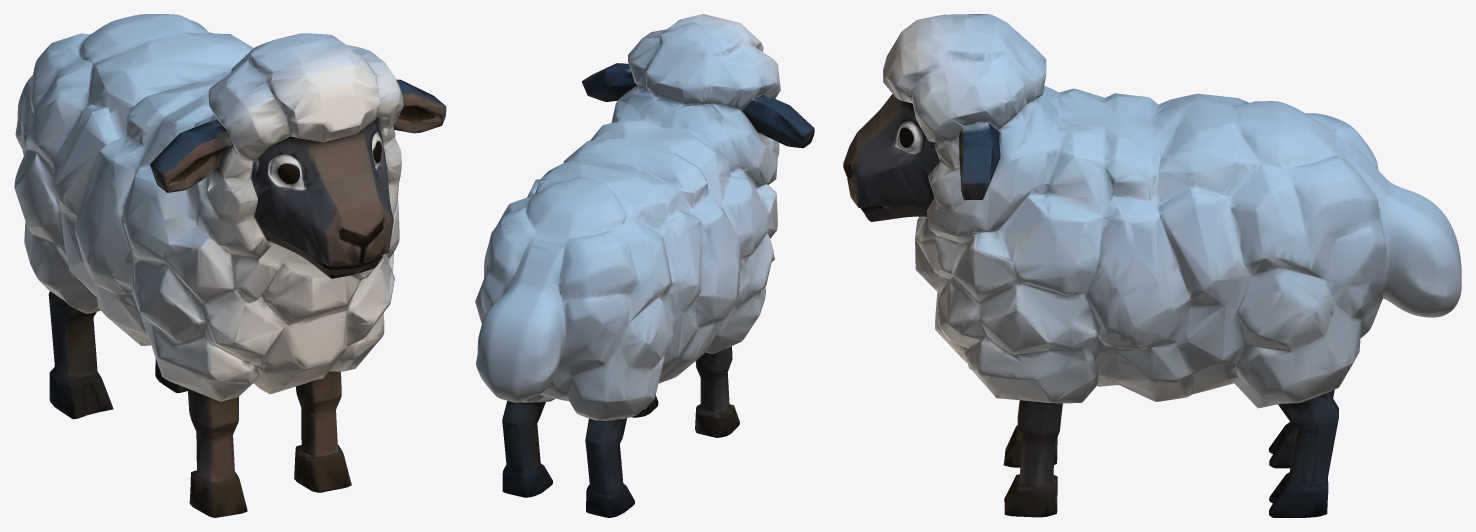
Rendered from sheep.glb.
3 renders of one model, left to right at view 1: azimuth 30°, elevation 25°; view 2: azimuth 150°, elevation 25°; view 3: azimuth 270°, elevation 25°, orthographic. The views are drawn at different scales.
Parts seen in each view (by area): view 1: node_0; view 2: node_0; view 3: node_0.
Part boxes in pixels (x1,y1,x2,y2): node_0: (14, 14, 446, 517); node_0: (475, 14, 814, 517); node_0: (843, 14, 1461, 517).
Size of the model in its own units: 0.5507 by 0.8795 by 1.07.
1 material, 1 textured.
